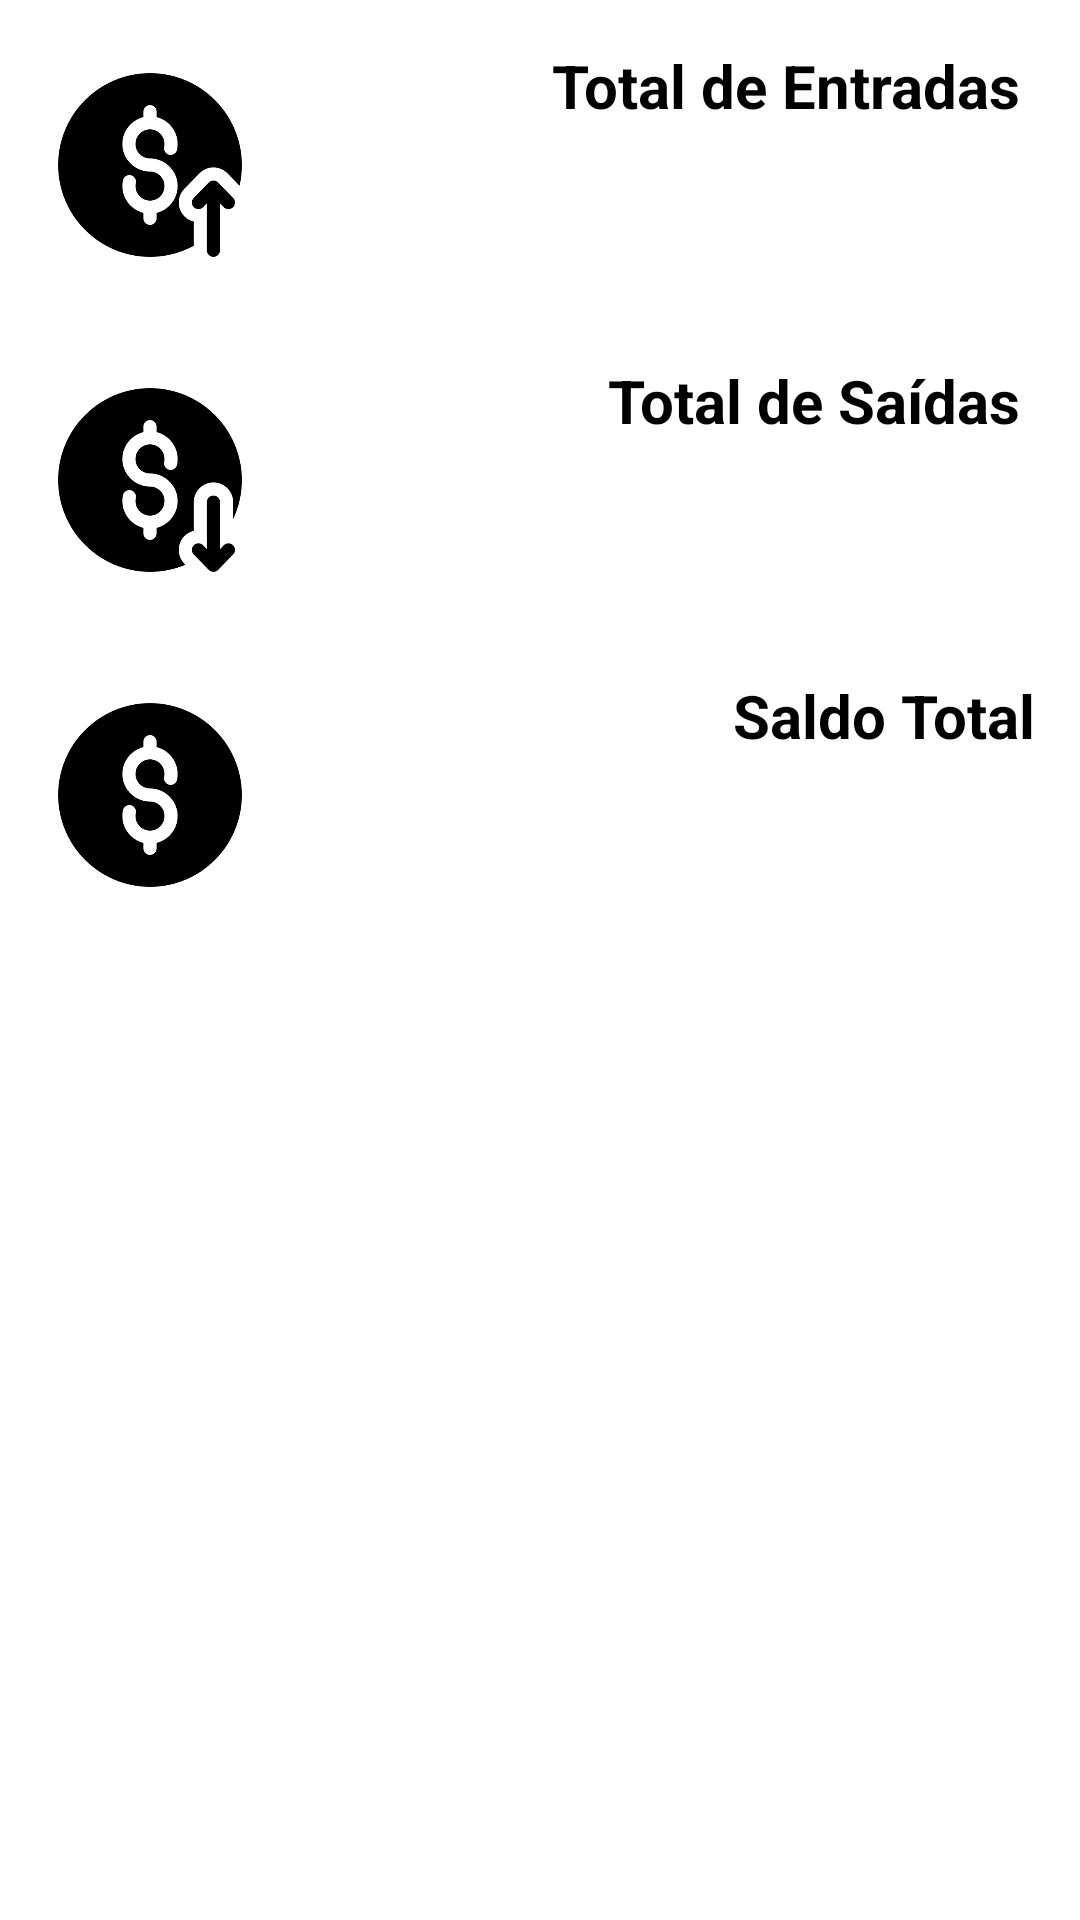

Screen size 1080×1920. Icon name, then its center in pixels as [x,y]:
add money: [150,165]
del money: [150,480]
money: [150,795]
